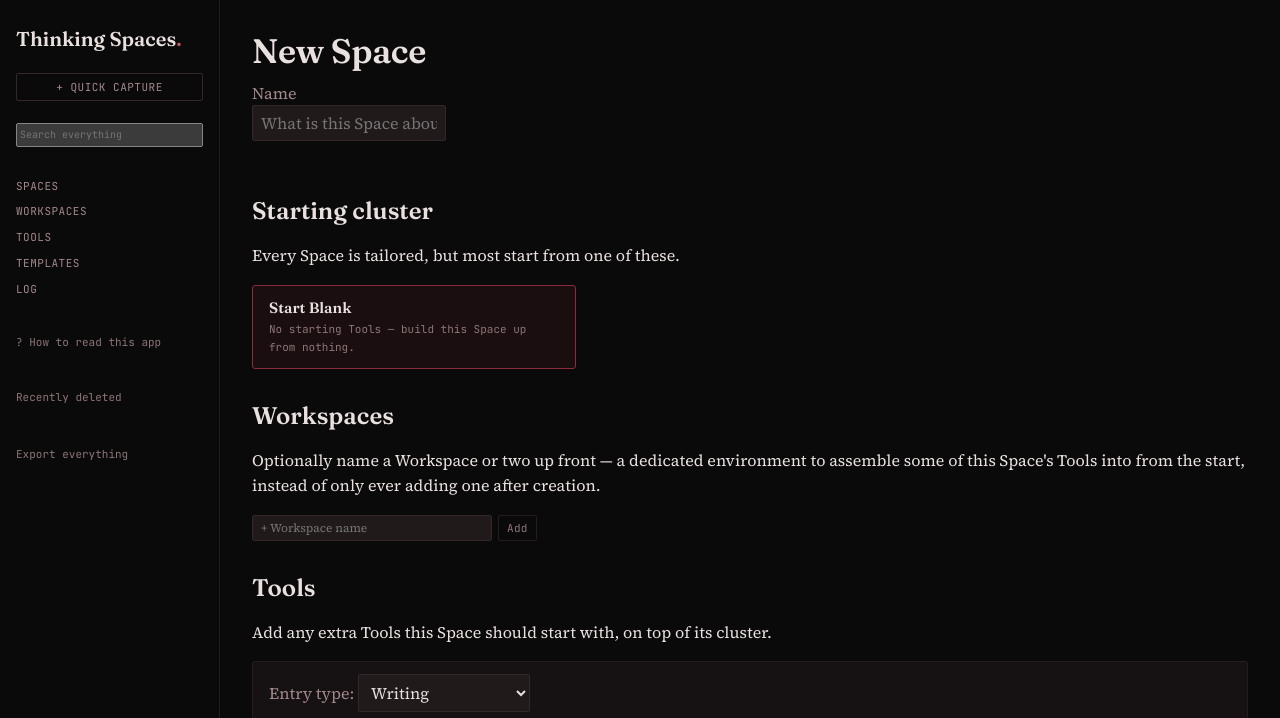
it: CreateSpace: submitting › disables Create Space until a title is entered
Expected: the heading "Start Blank" is shown, [269,298,351,317]
Type "My Space" into the field with placeholder "What is this Space about?".
click(349, 123); type("My Space")  # box [252,105,446,141]
(page scrolled)
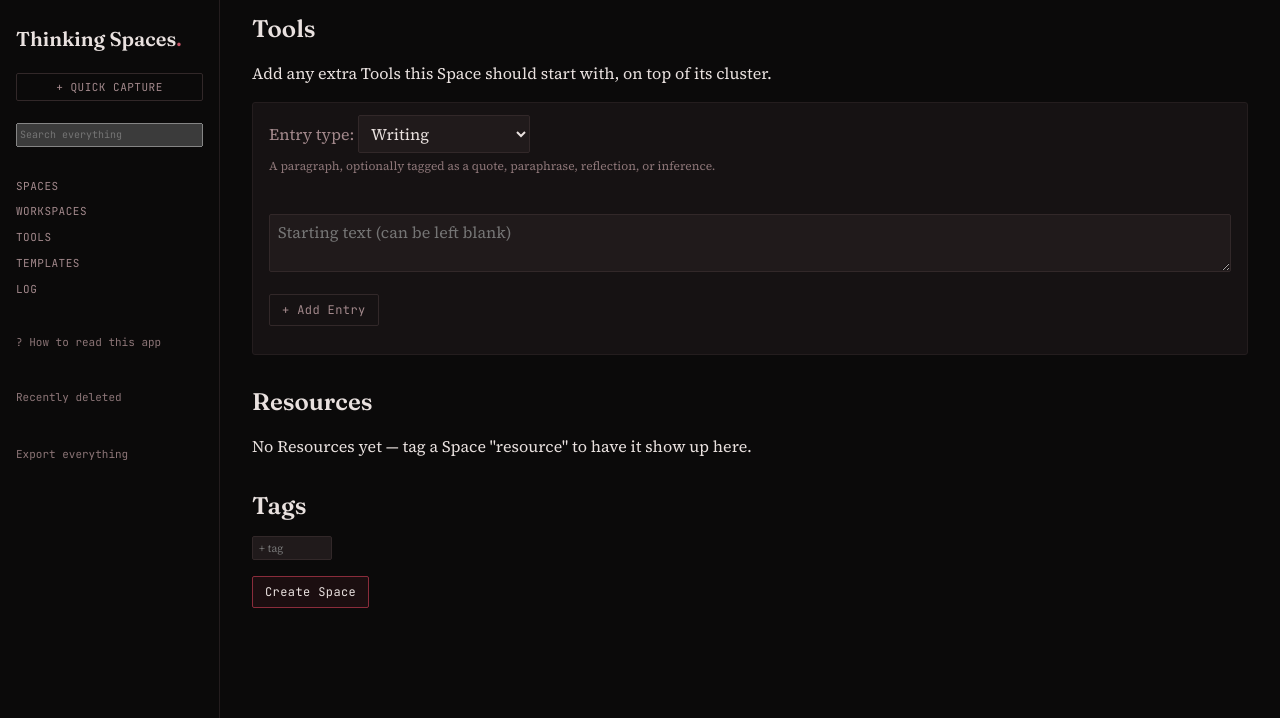
Expected: the button "Create Space" is enabled, [252,576,369,608]
